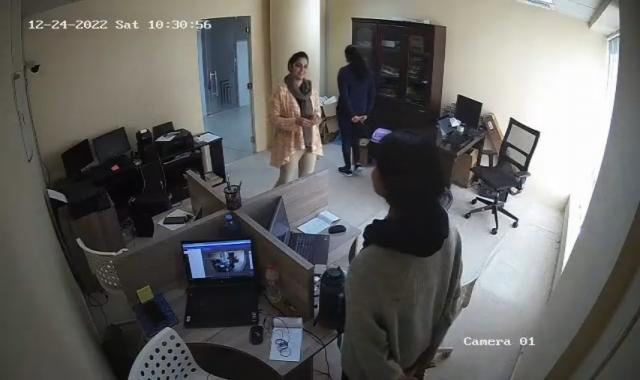no_hairnet: (369, 131, 448, 206), (287, 50, 309, 83), (342, 43, 362, 67)
